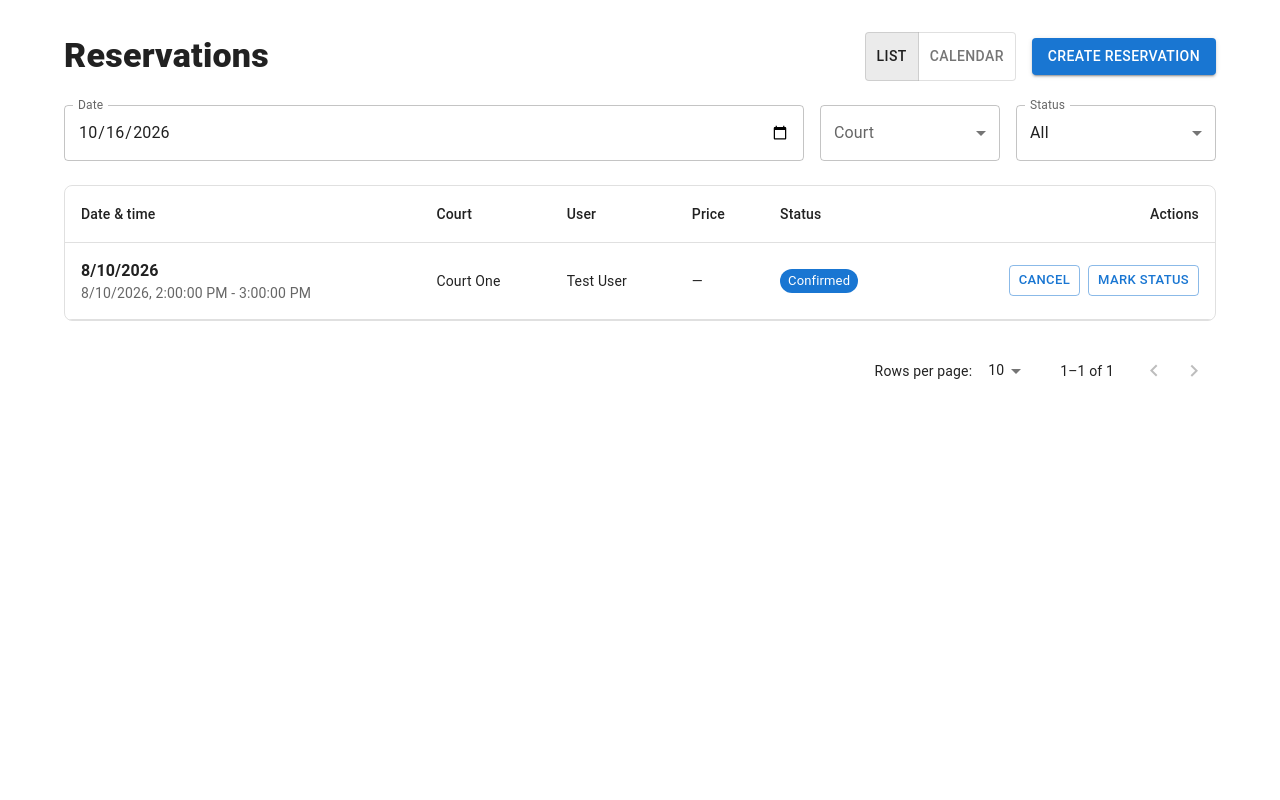
Test case: ComplexReservationsPage › resets the create reservation form when the dialog is cancelled
Check: the heading "Reservations" is shown, box [64,35,269,77]
Click the button "Create reservation" at (1124, 56), box [1032,38,1216,74]
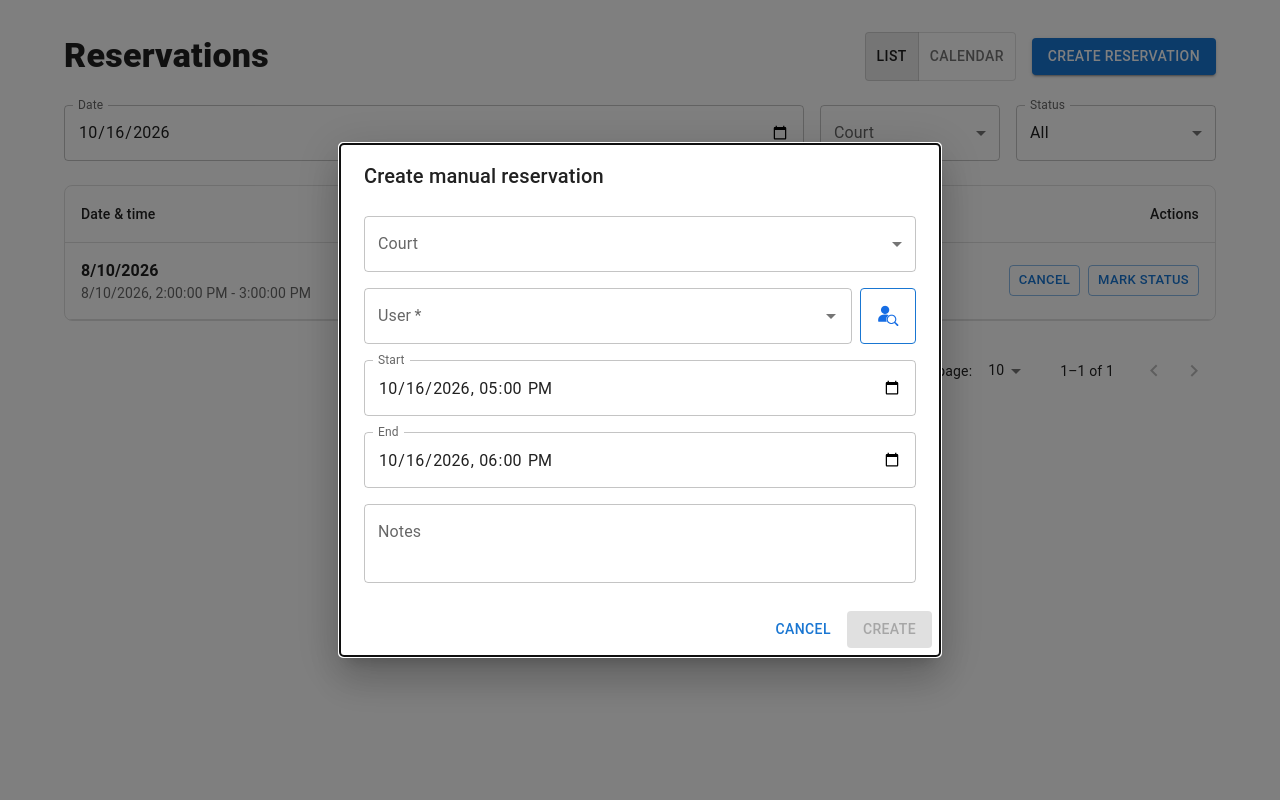
Check: the dialog "Create manual reservation" is shown, box [340,144,940,656]
Type "cancelled notes" into the text box labelled "Notes" at (640, 544), box [378,521,902,567]
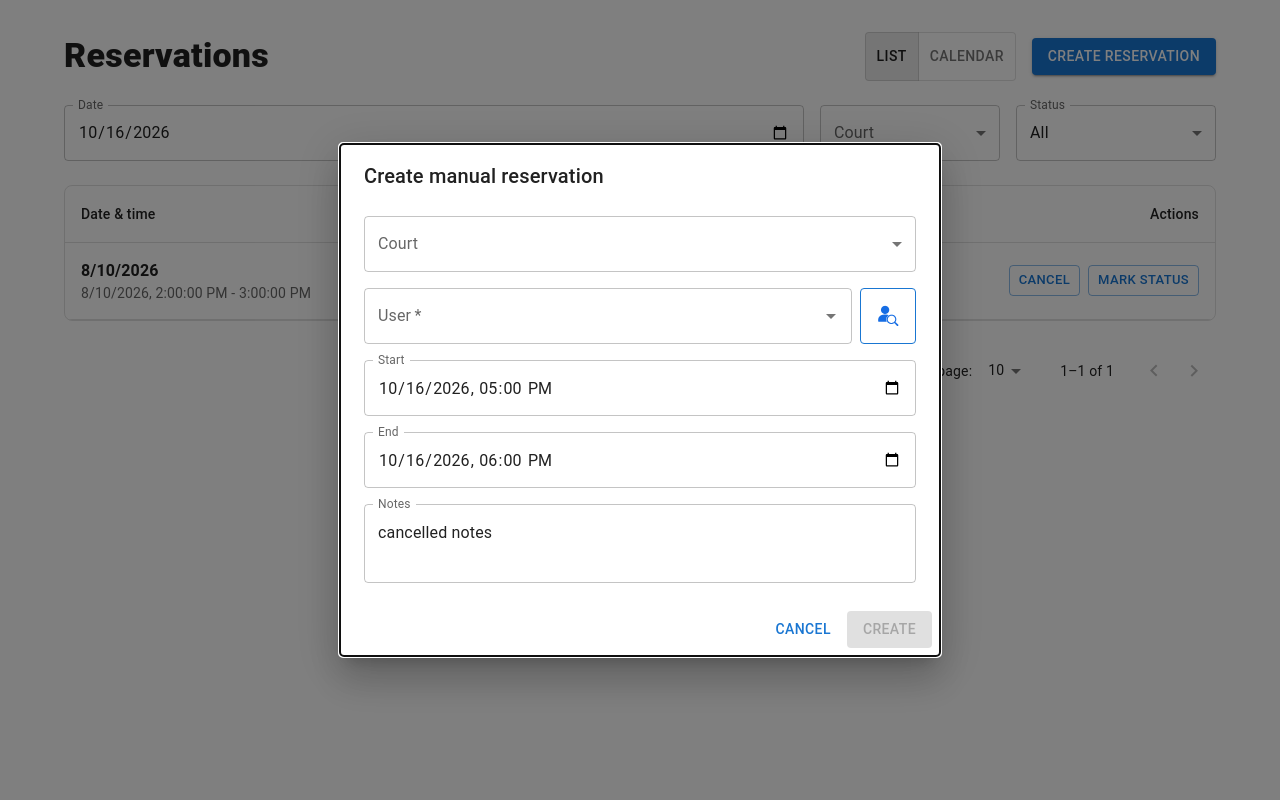
Click the button "Cancel" at (803, 630), box [767,611,839,648]
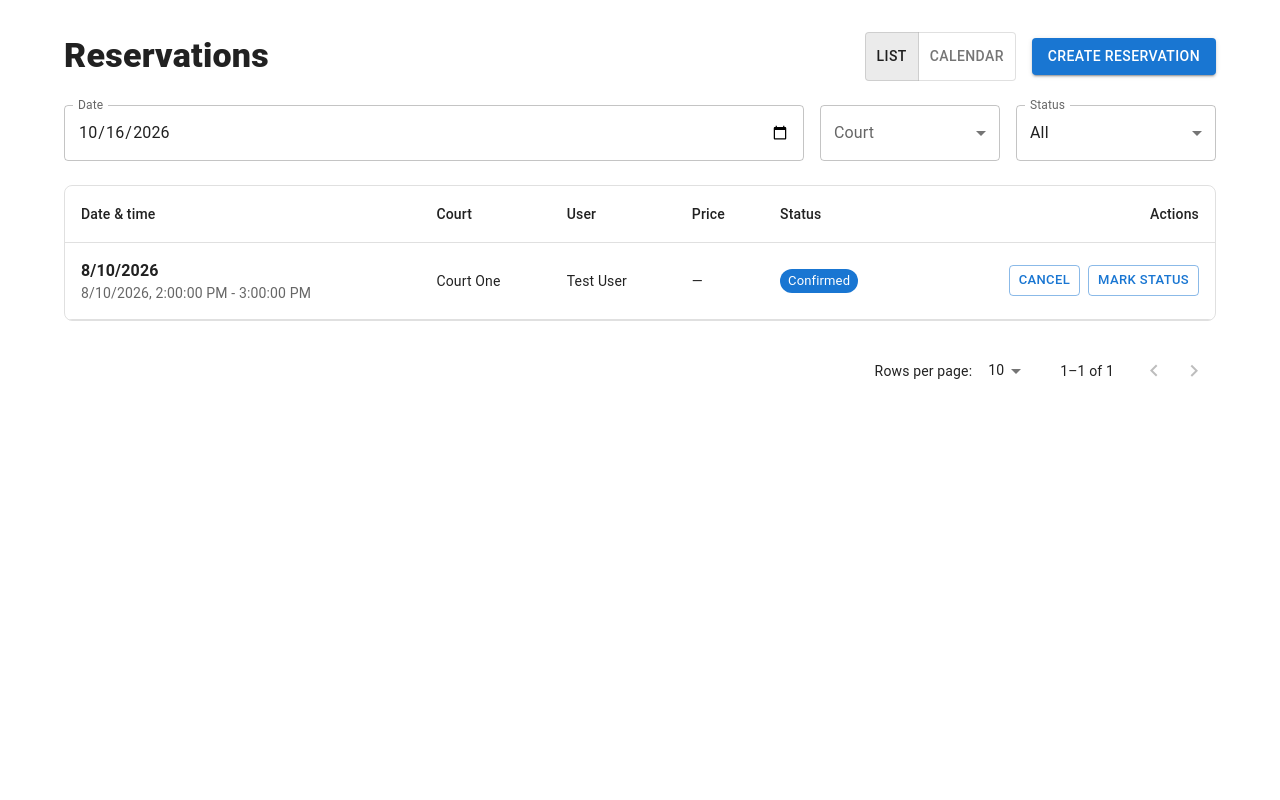
Check: the heading "Create manual reservation" is gone
Click the button "Create reservation" at (1124, 56), box [1032,38,1216,74]
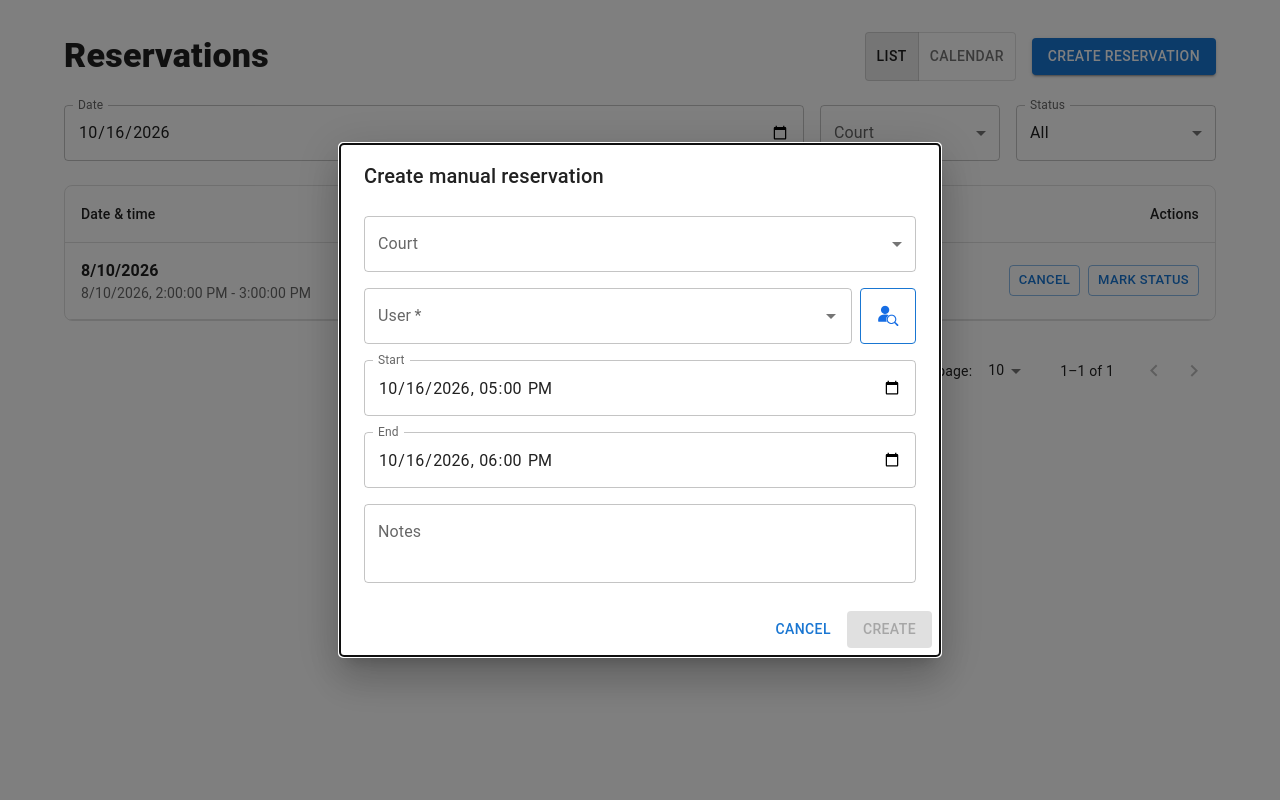
Check: the dialog "Create manual reservation" is shown, box [340,144,940,656]
Check: the text box labelled "Notes" is empty, box [378,521,902,567]
